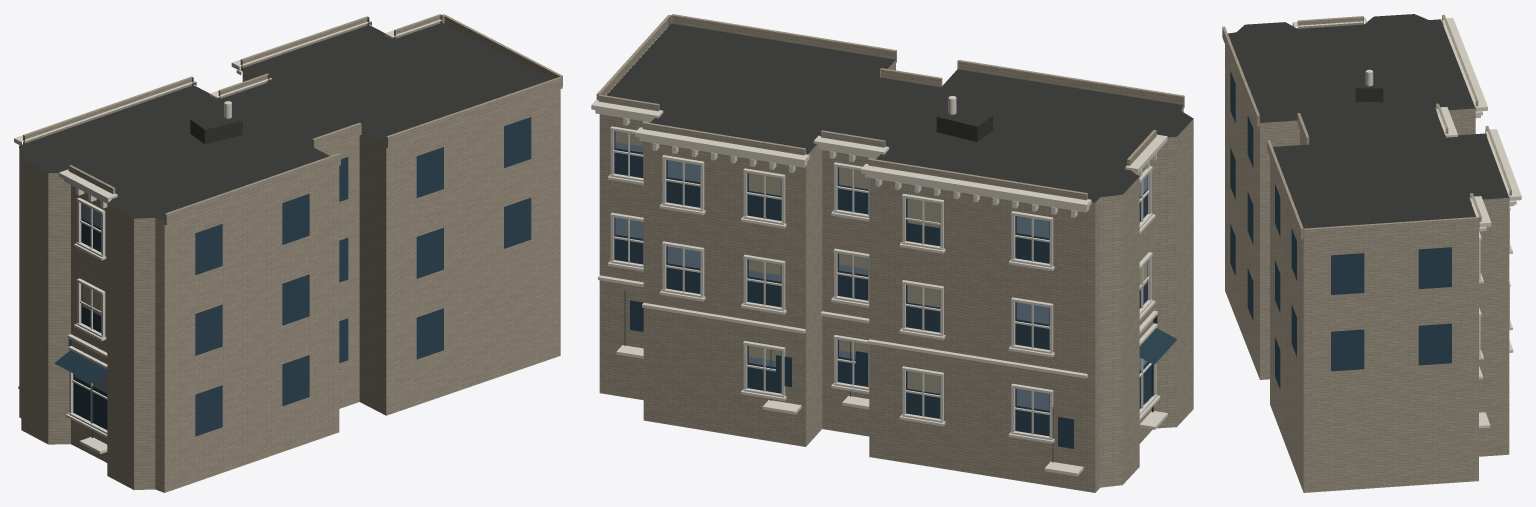
3 renders of one model, left to right at view 1: azimuth 30°, elevation 25°; view 2: azimuth 150°, elevation 25°; view 3: azimuth 270°, elevation 25°, orthographic. The views are drawn at different scales.
Parts seen in each view (by area): view 1: Footprint 0 / surface 2, Footprint 0 / surface 1, Inset glazing, Facade bay volumes, Cornices and window frames, Storefronts and doors, Inferred rooftop service enclosure / surface 5; view 2: Footprint 0 / surface 2, Footprint 0 / surface 1, Cornices and window frames, Inset glazing, Facade bay volumes, Sky reflection panels, Interior blind variation, Storefronts and doors, Inferred rooftop service enclosure / surface 6; view 3: Footprint 0 / surface 2, Footprint 0 / surface 1, Inset glazing, Facade bay volumes, Cornices and window frames, Inferred rooftop service enclosure / surface 3, Inferred rooftop service enclosure / surface 1.
Boxes of the visible parts, <box> form: Footprint 0 / surface 2: <box>19,68,560,492</box>; Footprint 0 / surface 1: <box>19,22,550,221</box>; Inset glazing: <box>73,117,531,436</box>; Facade bay volumes: <box>23,14,562,225</box>; Cornices and window frames: <box>14,19,441,454</box>; Storefronts and doors: <box>54,339,107,437</box>; Inferred rooftop service enclosure / surface 5: <box>204,120,242,143</box>; Footprint 0 / surface 2: <box>599,60,1193,492</box>; Footprint 0 / surface 1: <box>606,23,1193,202</box>; Cornices and window frames: <box>591,100,1167,476</box>; Inset glazing: <box>614,131,1151,448</box>; Facade bay volumes: <box>596,14,1184,200</box>; Sky reflection panels: <box>615,131,1147,410</box>; Interior blind variation: <box>615,132,1147,393</box>; Storefronts and doors: <box>624,290,1177,462</box>; Inferred rooftop service enclosure / surface 6: <box>936,117,977,141</box>; Footprint 0 / surface 2: <box>1225,45,1509,492</box>; Footprint 0 / surface 1: <box>1228,14,1508,228</box>; Inset glazing: <box>1230,71,1451,389</box>; Facade bay volumes: <box>1222,15,1511,240</box>; Cornices and window frames: <box>1292,17,1521,428</box>; Inferred rooftop service enclosure / surface 3: <box>1355,70,1383,88</box>; Inferred rooftop service enclosure / surface 1: <box>1355,88,1383,101</box>.
Size of the model in its own units: 22.85 by 13.57 by 12.96.
